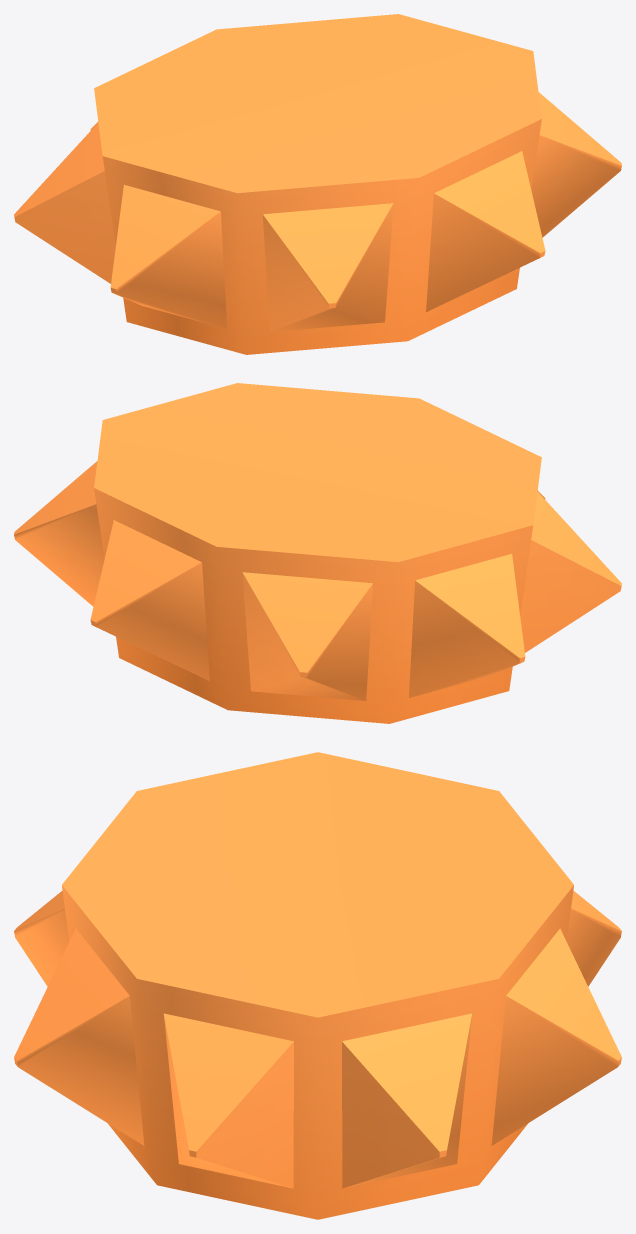
The model's file is bronze_guard_064.glb.
3 renders of one model, top to bottom at view 1: azimuth 30°, elevation 25°; view 2: azimuth 150°, elevation 25°; view 3: azimuth 270°, elevation 25°, orthographic. The views are drawn at different scales.
Parts seen in each view (by area): view 1: bronze_guard_064; view 2: bronze_guard_064; view 3: bronze_guard_064.
Boxes of the visible parts, box(x1,y1,x2,y2) form: bronze_guard_064: box(14, 14, 621, 354); bronze_guard_064: box(14, 383, 621, 723); bronze_guard_064: box(14, 752, 621, 1219).
Bounding box in the file's own units: 6.23 × 2 × 5.08.
1 material, 1 textured.
